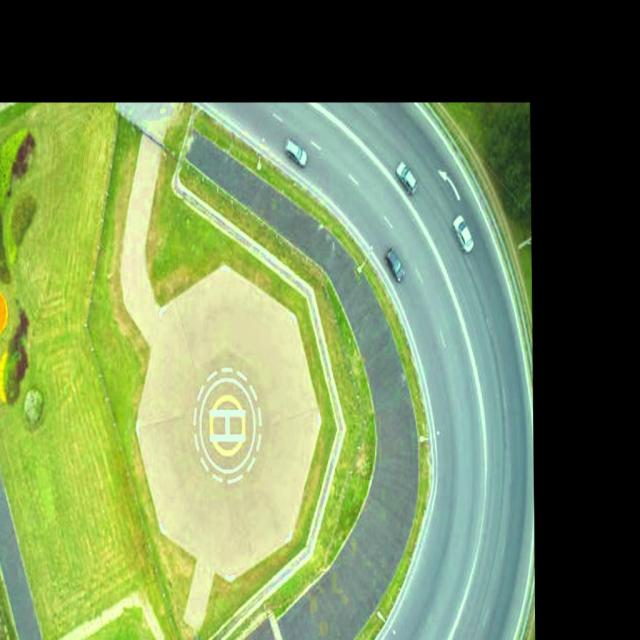helipad: (206, 392, 248, 457)
